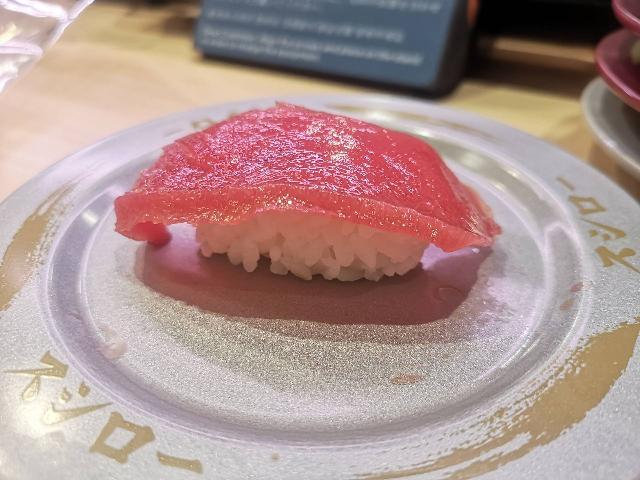janred: (581, 30, 640, 92), (593, 0, 640, 49)
janwhite: (7, 106, 640, 480), (569, 73, 640, 182)
